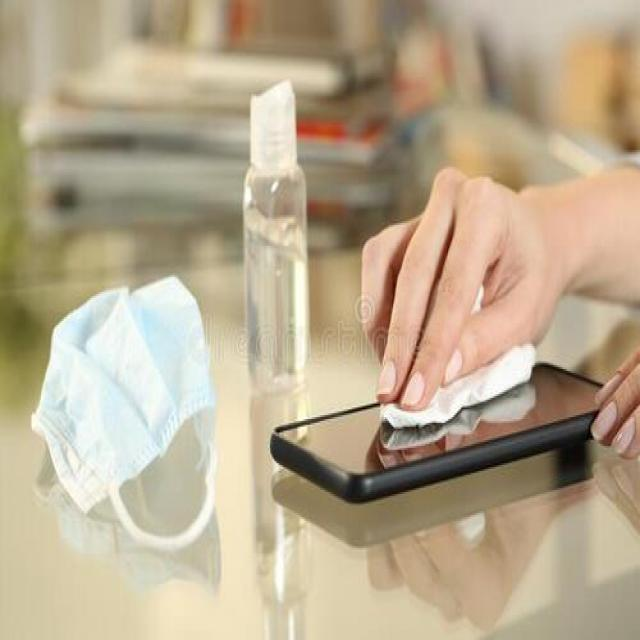sanitizer: (243, 75, 309, 396)
